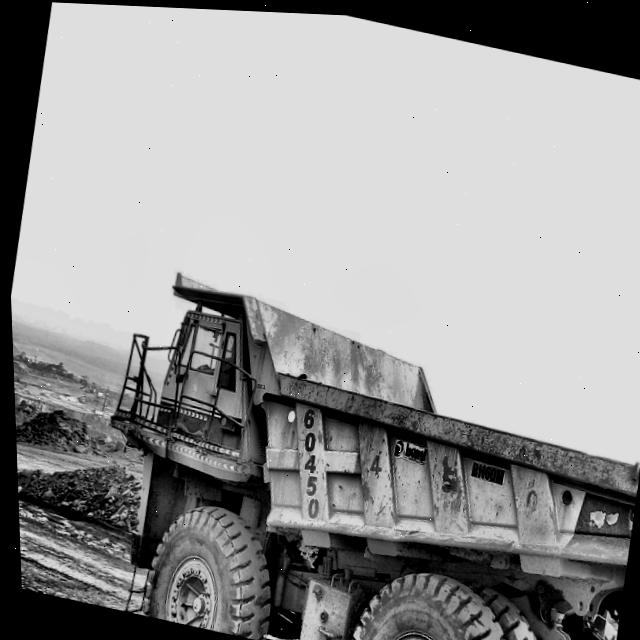dump_truck: (111, 273, 637, 640)
